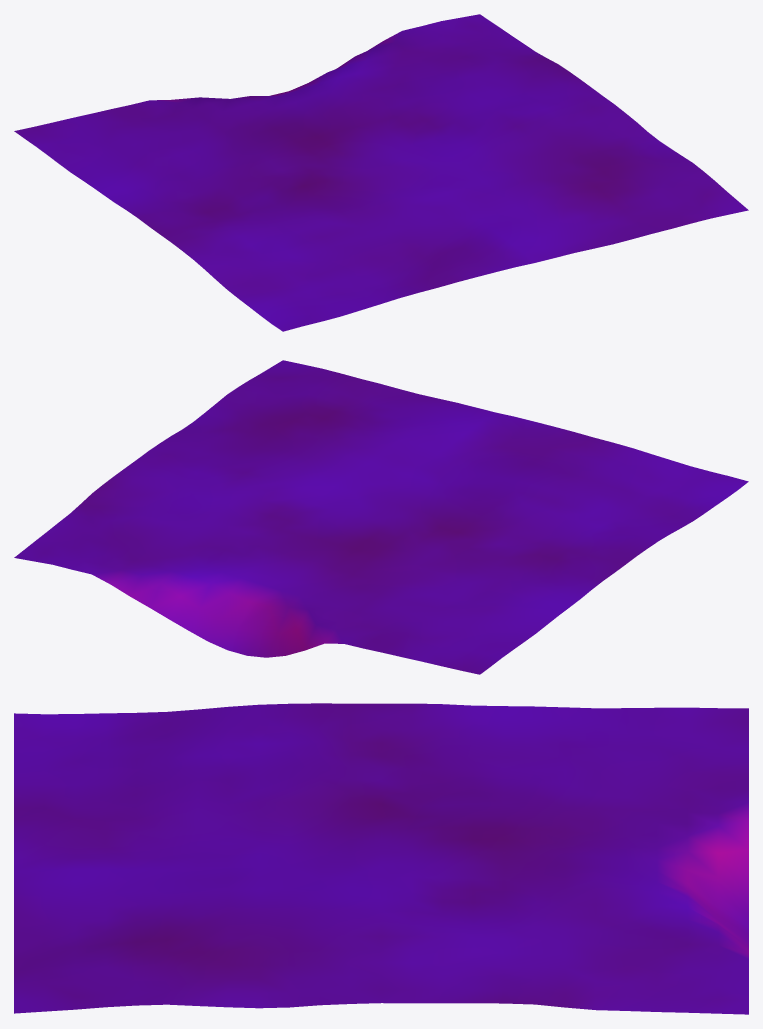
File: ground_41.glb
The picture shows the model from 3 angles, top to bottom: view 1: azimuth 30°, elevation 25°; view 2: azimuth 150°, elevation 25°; view 3: azimuth 270°, elevation 25°; orthographic projection. The views are drawn at different scales.
Visible parts, largest first — view 1: Ground_41; view 2: Ground_41; view 3: Ground_41.
Boxes of the visible parts, x1,y1,x2,y2 form: Ground_41: (14,14,748,331); Ground_41: (14,360,748,674); Ground_41: (14,703,748,1014).
Size of what is drawn, in the model's own units: 24 by 2.52 by 24.
